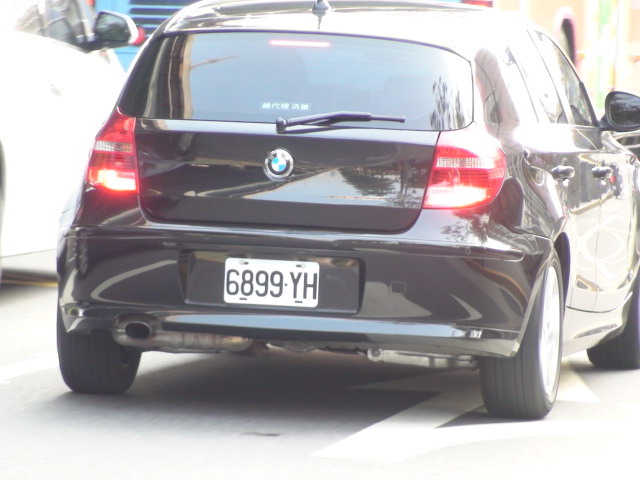plate: (220, 252, 322, 311)
